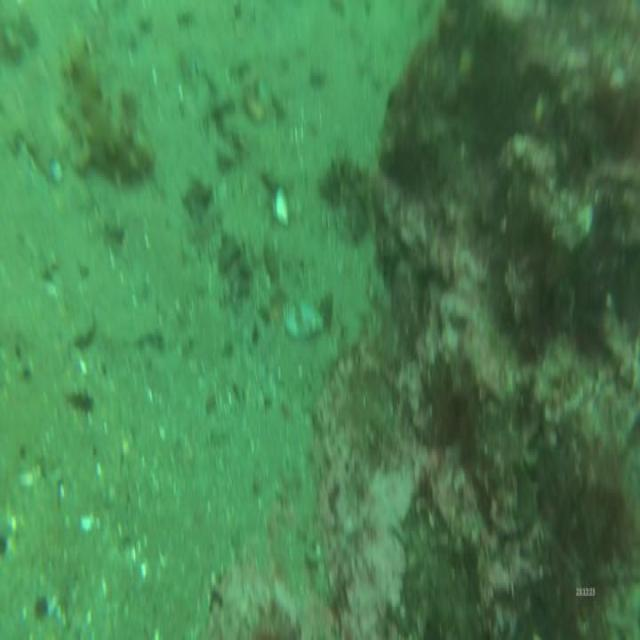holothurian: (55, 33, 157, 191), (319, 148, 375, 246)
